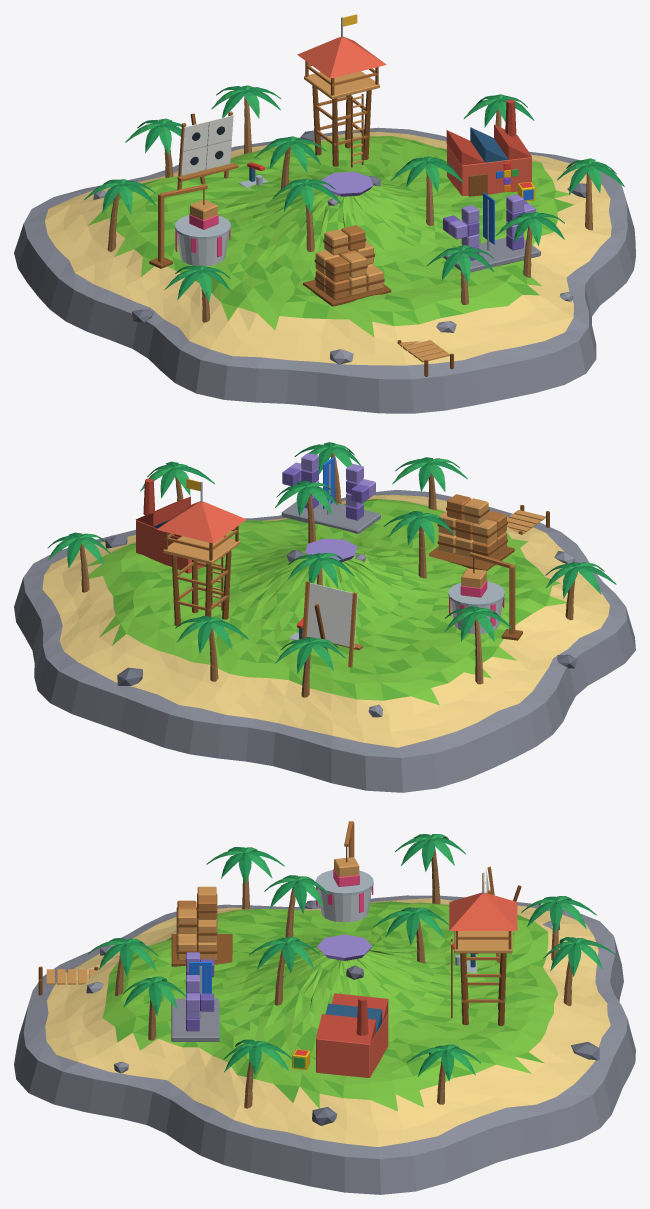
The model's file is island.glb.
3 renders of one model, top to bottom at view 1: azimuth 30°, elevation 25°; view 2: azimuth 150°, elevation 25°; view 3: azimuth 270°, elevation 25°, orthographic. The views are drawn at different scales.
Visible parts, largest first — view 1: terrain, sheet, roof, hall, plinth, bucket, deck, summit_pad, rim, saw0, saw1, saw2 (+1 smaller); view 2: terrain, sheet, roof, plinth, hall, deck, rim, summit_pad, pallet, saw2; view 3: terrain, hall, roof, plinth, saw2, bucket, deck, summit_pad, rim, pallet, saw0, saw1.
Part boxes in pixels (x1=…): terrain: x1=14, y1=127, x2=635, y2=413; sheet: x1=181, y1=115, x2=233, y2=175; roof: x1=297, y1=36, x2=386, y2=78; hall: x1=447, y1=144, x2=531, y2=195; plinth: x1=443, y1=237, x2=540, y2=272; bucket: x1=177, y1=231, x2=229, y2=266; deck: x1=304, y1=71, x2=379, y2=99; summit_pad: x1=321, y1=172, x2=373, y2=196; rim: x1=175, y1=215, x2=230, y2=239; saw0: x1=446, y1=130, x2=484, y2=165; saw1: x1=470, y1=127, x2=508, y2=162; saw2: x1=494, y1=124, x2=531, y2=159; terrain: x1=14, y1=490, x2=635, y2=792; sheet: x1=306, y1=582, x2=357, y2=647; roof: x1=157, y1=501, x2=246, y2=543; plinth: x1=281, y1=501, x2=380, y2=533; hall: x1=136, y1=520, x2=225, y2=573; deck: x1=163, y1=536, x2=239, y2=564; rim: x1=448, y1=581, x2=504, y2=606; summit_pad: x1=305, y1=538, x2=357, y2=561; pallet: x1=428, y1=546, x2=514, y2=571; saw2: x1=136, y1=496, x2=190, y2=526; terrain: x1=14, y1=895, x2=635, y2=1194; hall: x1=316, y1=1014, x2=388, y2=1077; roof: x1=449, y1=892, x2=517, y2=930; plinth: x1=171, y1=998, x2=219, y2=1041; saw2: x1=316, y1=1014, x2=375, y2=1044; bucket: x1=317, y1=888, x2=371, y2=922; deck: x1=454, y1=931, x2=512, y2=953; summit_pad: x1=317, y1=934, x2=372, y2=960; rim: x1=315, y1=870, x2=373, y2=895; pallet: x1=171, y1=934, x2=232, y2=966; saw0: x1=331, y1=993, x2=388, y2=1022; saw1: x1=325, y1=1003, x2=382, y2=1033.
Size of the model in its own units: 25.36 by 9.06 by 24.55.
